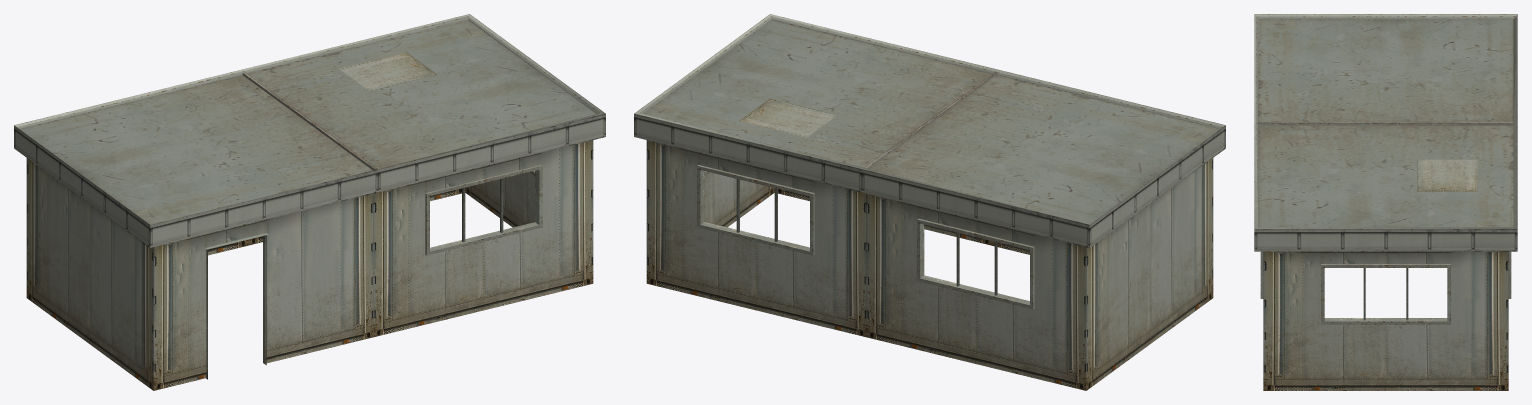
Rendered from Building_office.FBX.
The picture shows the model from 3 angles, left to right: view 1: azimuth 30°, elevation 25°; view 2: azimuth 150°, elevation 25°; view 3: azimuth 270°, elevation 25°; orthographic projection. The views are drawn at different scales.
Parts seen in each view (by area): view 1: Building_base; view 2: Building_base; view 3: Building_base.
Part boxes in pixels (x1=…): Building_base: x1=14, y1=14, x2=605, y2=390; Building_base: x1=634, y1=14, x2=1225, y2=390; Building_base: x1=1254, y1=14, x2=1517, y2=390.
Bounding box in the file's own units: 8.29 × 2.99 × 4.29.
